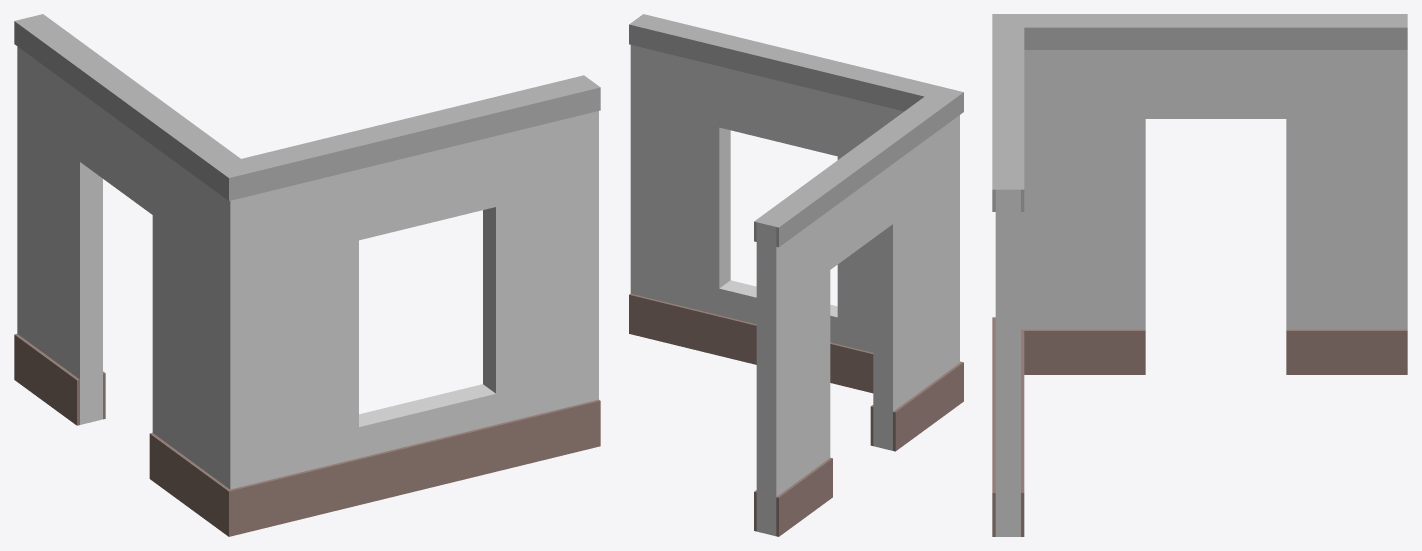
File: Wall04-02.fbx
3 views of the same model, side by side, from view 1: azimuth 30°, elevation 25°; view 2: azimuth 150°, elevation 25°; view 3: azimuth 270°, elevation 25° (orthographic). The views are drawn at different scales.
Parts seen in each view (by area): view 1: Wall04-02; view 2: Wall04-02; view 3: Wall04-02.
Part boxes in pixels (x1,y1,x2,y2): Wall04-02: (14,14,600,536); Wall04-02: (629,14,963,536); Wall04-02: (992,14,1407,536).
Bounding box in the file's own units: 3.25 × 3.25 × 3.
